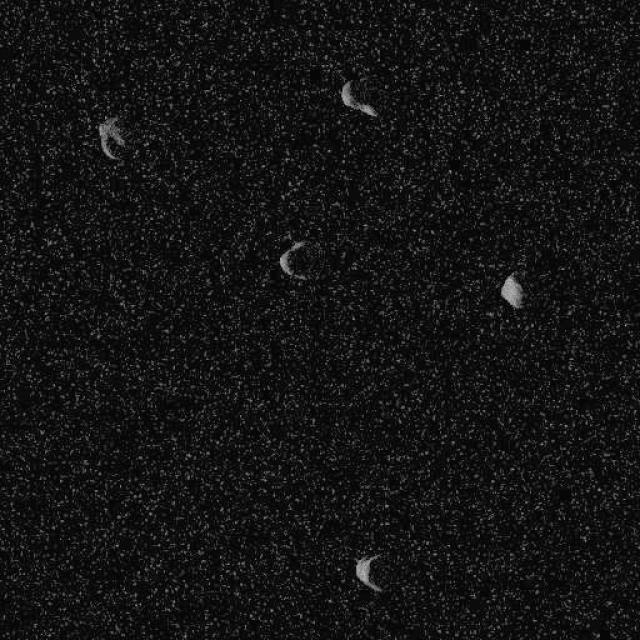D2: (339, 76, 379, 118), (277, 239, 315, 281), (96, 115, 128, 161), (354, 552, 384, 592), (498, 271, 524, 309)
